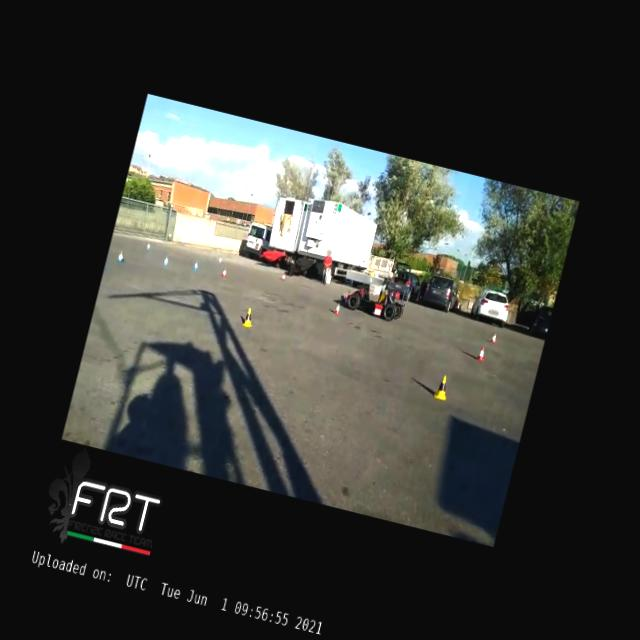blue_cone: (190, 259, 200, 270), (117, 250, 125, 262), (162, 253, 170, 265), (144, 240, 152, 251), (216, 255, 222, 265)
orange_cone: (488, 330, 499, 344), (332, 301, 342, 315), (476, 346, 486, 360), (220, 266, 228, 278)
unknown_cone: (278, 270, 287, 280)
yellow_cone: (433, 372, 451, 400), (241, 306, 255, 328)
